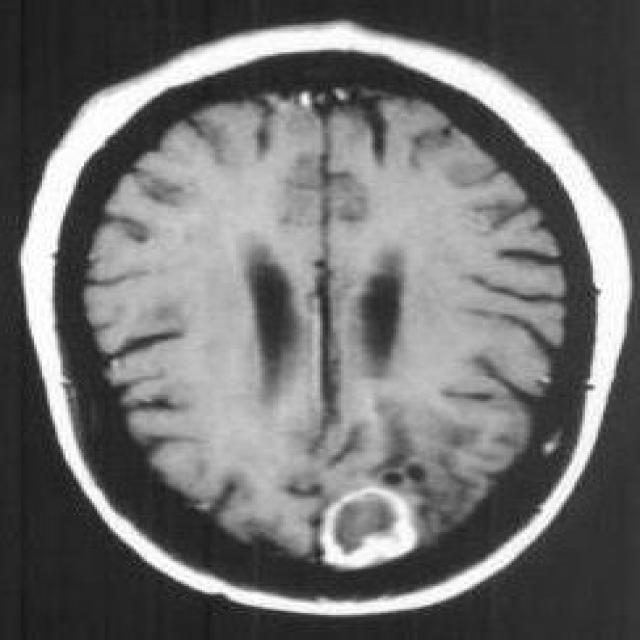Tumor: (319, 486, 431, 581)
